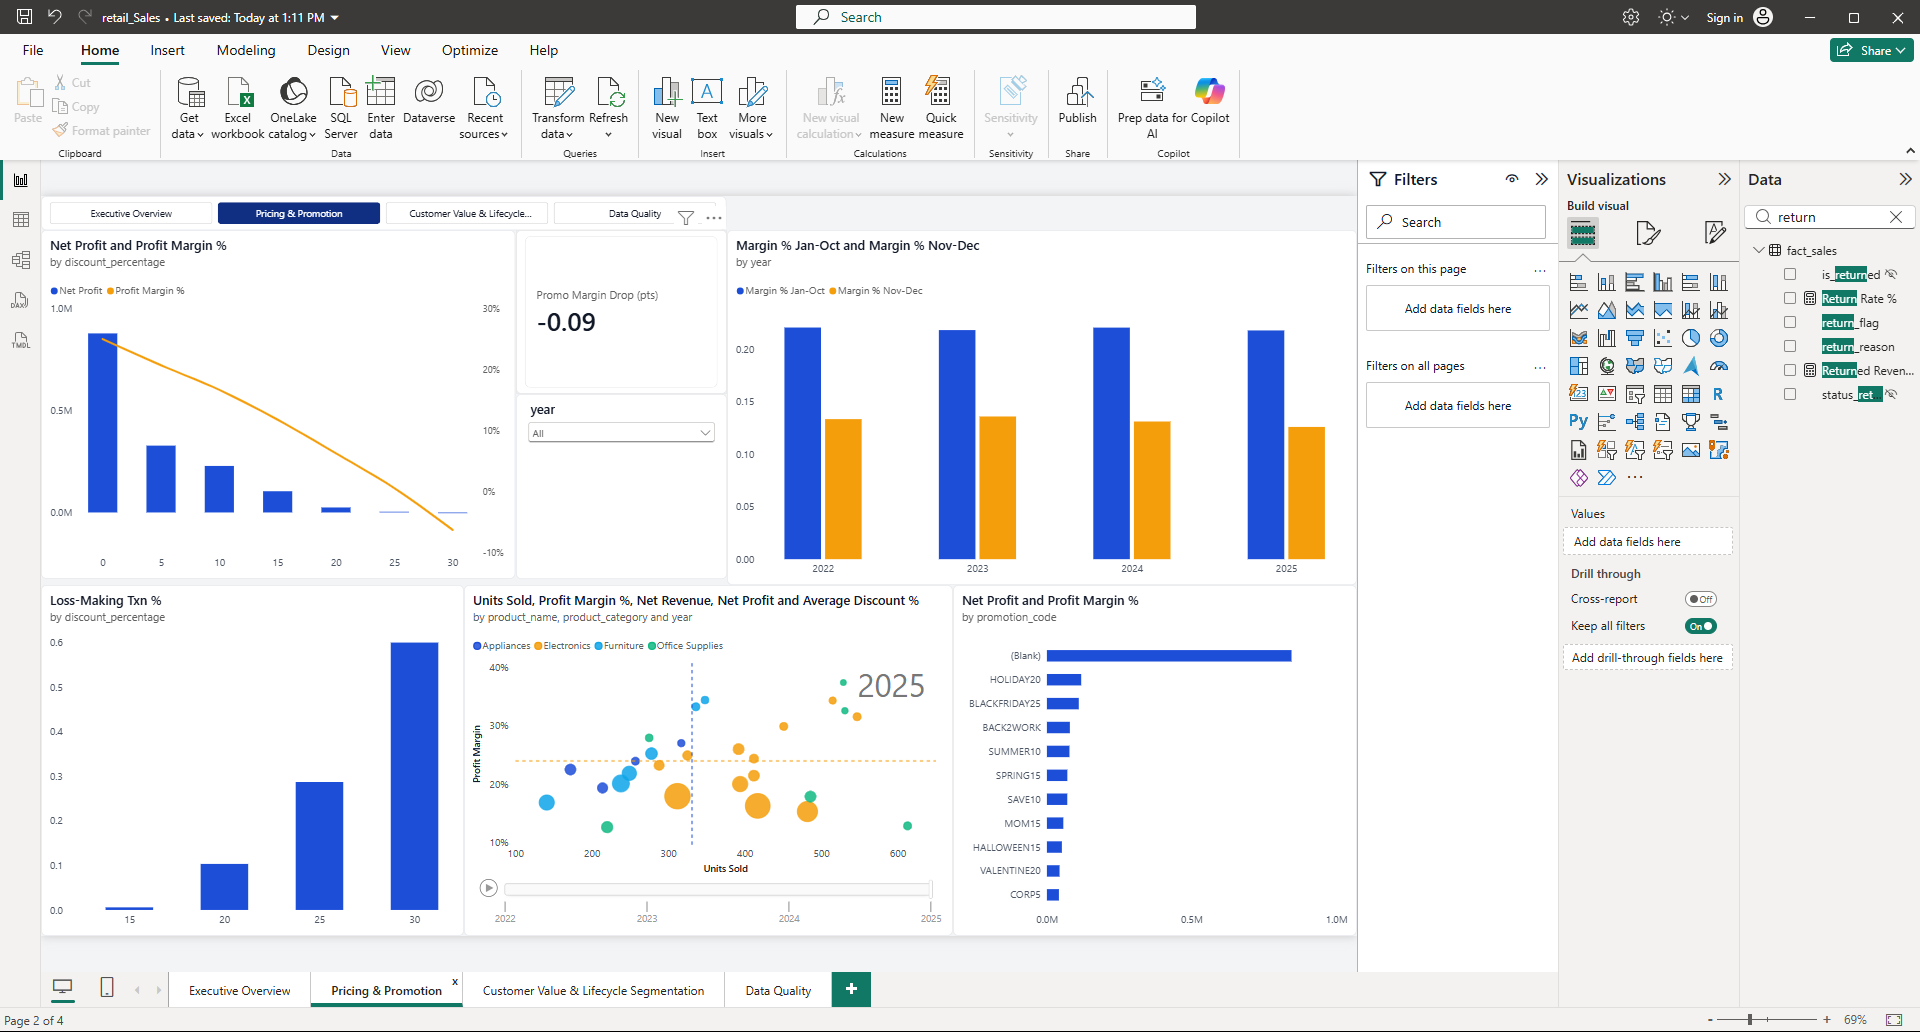

The dashboard page shown, as its layout file describes it:
{"tool":"powerbi","page":{"name":"Pricing & Promotion","canvas":[1920,1080],"ordinal":1},"visuals":[{"type":"pageNavigator","box":[0,0,1920,83.2],"z":0},{"type":"lineClusteredColumnComboChart","title":"Profit & Margins vs Discount","fields":{"Category":["fact_sales.discount_percentage"],"Y":["fact_sales.Net Profit"],"Y2":["fact_sales.Profit Margin %"]},"box":[0,83.2,691.6,484.4],"z":1000},{"type":"columnChart","fields":{"Category":["fact_sales.discount_percentage"],"Y":["fact_sales.Loss-Making Txn %"]},"box":[0,567.5,617.1,512.1],"z":2000},{"type":"clusteredColumnChart","fields":{"Category":["dim_date.year"],"Y":["fact_sales.Margin % Jan-Oct","fact_sales.Margin % Nov-Dec"]},"box":[1000.9,83.2,919.1,484.4],"z":3000},{"type":"scatterChart","title":"Profit Margin Vs Unit Sold","fields":{"Category":["dim_product.product_name"],"Play":["dim_date.year"],"Series":["dim_product.product_category"],"Size":["fact_sales.Net Revenue"],"X":["fact_sales.Units Sold"],"Y":["fact_sales.Profit Margin %"]},"box":[617.1,567.5,713.4,512.1],"z":4000},{"type":"cardVisual","title":"Promo Margin","fields":{"Data":["fact_sales.Promo Margin Drop (pts)"]},"box":[693,83.2,307.8,267],"z":5000},{"type":"barChart","title":"Profit by Promo Codes","fields":{"Category":["fact_sales.Promo Label"],"Y":["fact_sales.Profit Margin %"]},"box":[1330.6,567.5,589.4,512.1],"z":6000},{"type":"slicer","fields":{"Values":["dim_date.year"]},"box":[693,350.2,307.8,217.4],"z":7000}]}

Visuals, with their boxes on the page's 1920x1080 design canvas (x1, y1, x2, y2). These are canvas units, not pixel positions in the 1920x1032 screenshot, which may show the page scaled, cropped or inside an application window:
pageNavigator: pyautogui.locateOnScreen(0, 0, 1920, 83)
"Profit & Margins vs Discount" lineClusteredColumnComboChart: pyautogui.locateOnScreen(0, 83, 692, 568)
columnChart - fact_sales.discount_percentage x fact_sales.Loss-Making Txn %: pyautogui.locateOnScreen(0, 568, 617, 1080)
clusteredColumnChart - dim_date.year x fact_sales.Margin % Jan-Oct: pyautogui.locateOnScreen(1001, 83, 1920, 568)
"Profit Margin Vs Unit Sold" scatterChart: pyautogui.locateOnScreen(617, 568, 1330, 1080)
"Promo Margin" cardVisual: pyautogui.locateOnScreen(693, 83, 1001, 350)
"Profit by Promo Codes" barChart: pyautogui.locateOnScreen(1331, 568, 1920, 1080)
slicer - dim_date.year: pyautogui.locateOnScreen(693, 350, 1001, 568)
